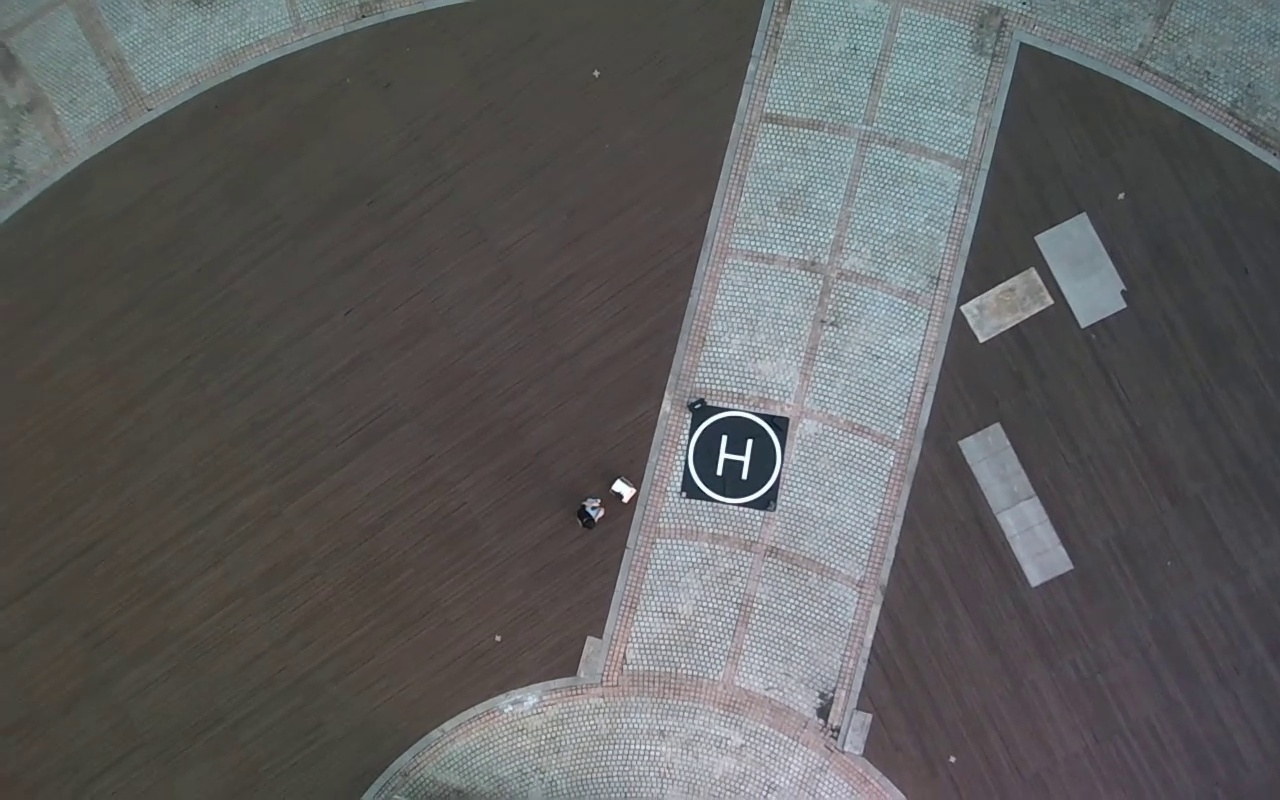H: (713, 433, 754, 479)
heliport: (687, 411, 783, 502)
